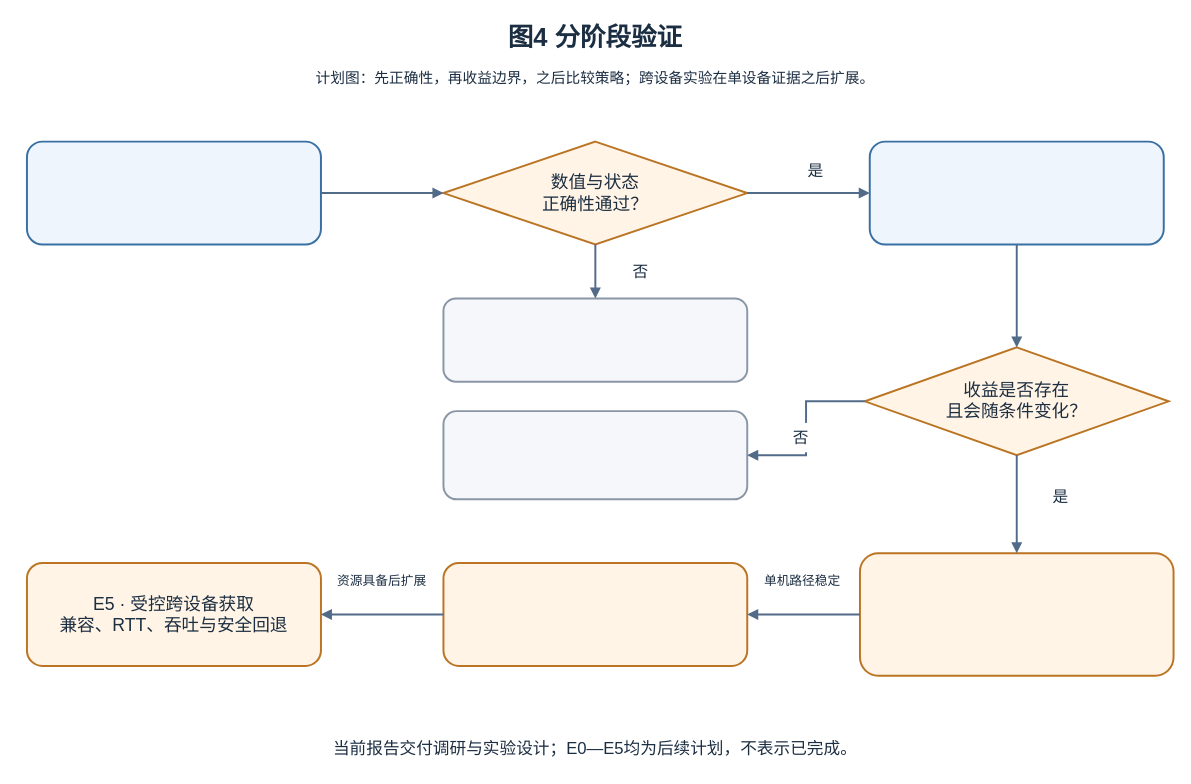
Some shapes in this 1191 by 784 pixel diagram are drawn without their labels. The shapes that lost their labels are listed below. From the top down, each one's centre as x and y in pixels, then its label:
At (173,192): "E0 · 状态路径验证 保存、恢复、继续执行".
At (1016,192): "E1 · 成本微基准 重算、读取、恢复及峰值内存".
At (595,339): "否：修复状态接口与生命周期 不进入性能结论".
At (595,455): "否 / 不明显：调整研究范围 内存复用、加载合并或其他条件".
At (595,614): "E4 · 突发同前缀负载 独立加载与在途合并".
At (1016,614): "E2 / E3 · 单设备策略对比 获取决策与后台写预算 固定策略、公平预算、真实请求路径".
